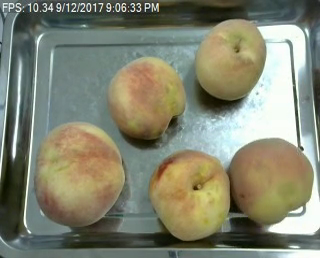Peach: (34, 119, 123, 227), (228, 137, 314, 225), (148, 149, 230, 240), (108, 55, 186, 140), (194, 17, 266, 100)
